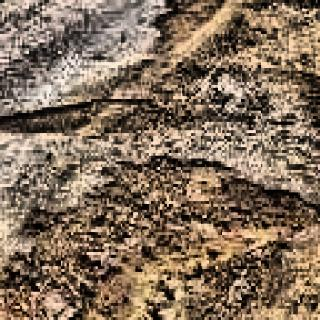pothole: (0, 152, 320, 320), (11, 0, 320, 135)
